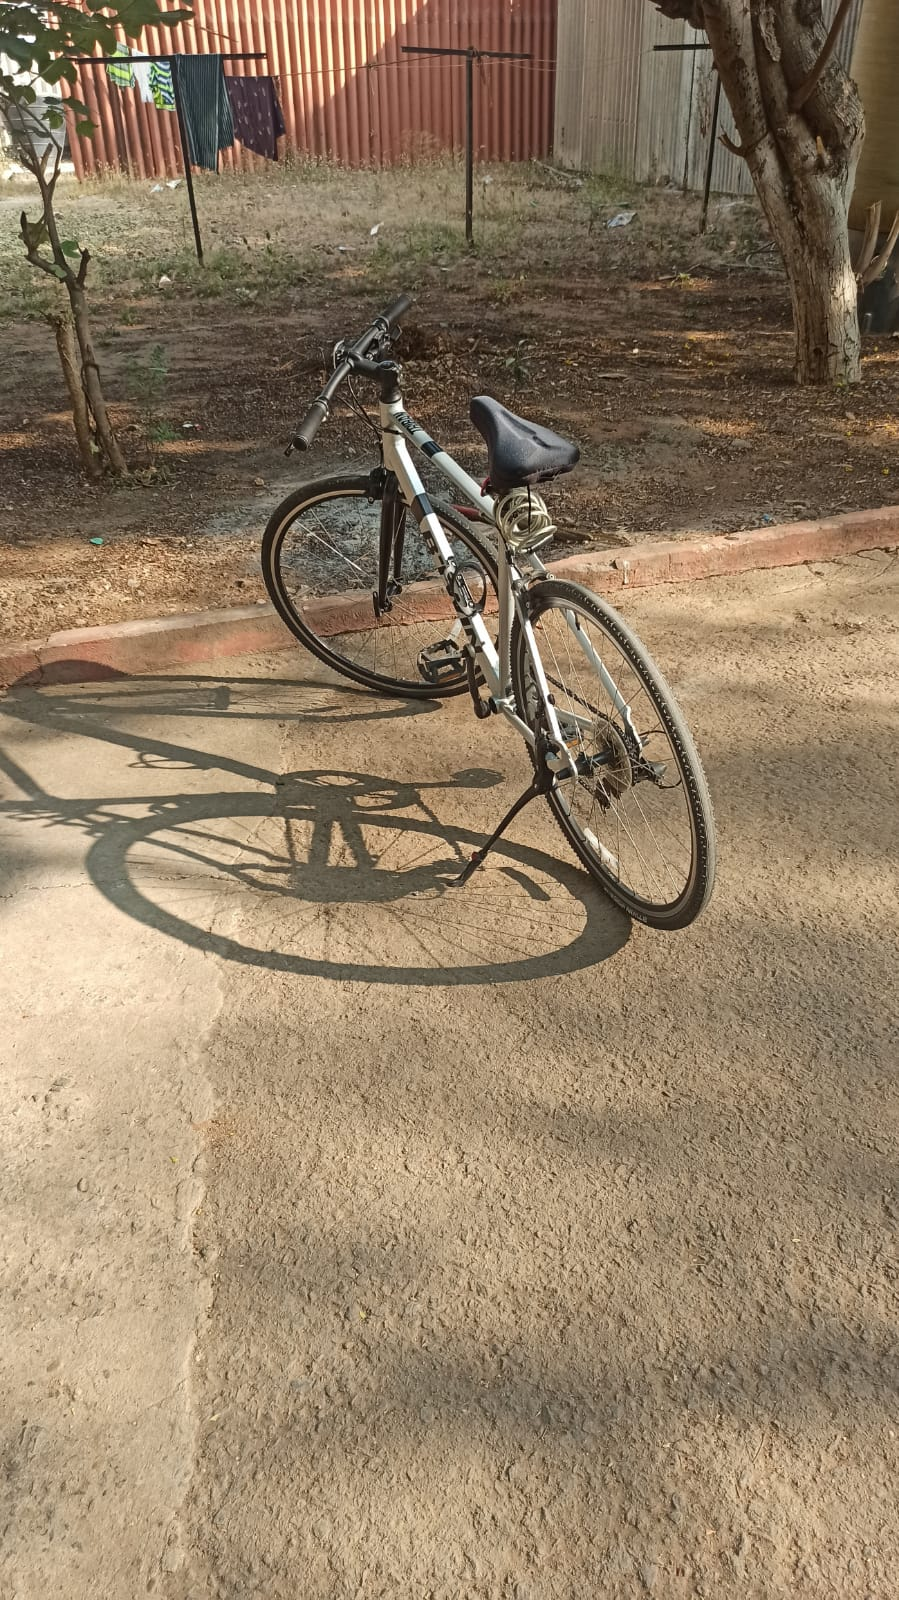cycle: (238, 315, 783, 1016)
